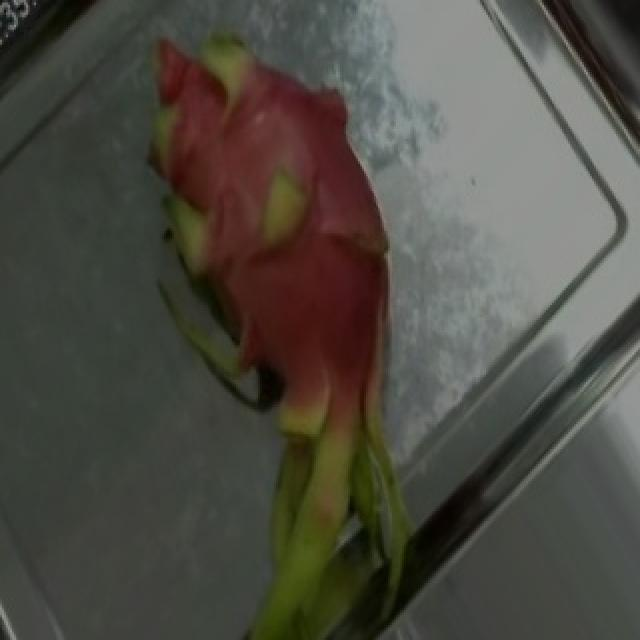fruit: (30, 2, 436, 466)
